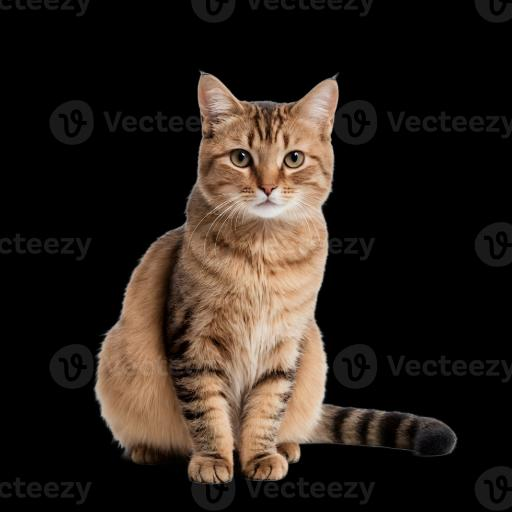cat_sitting: (96, 73, 456, 483)
